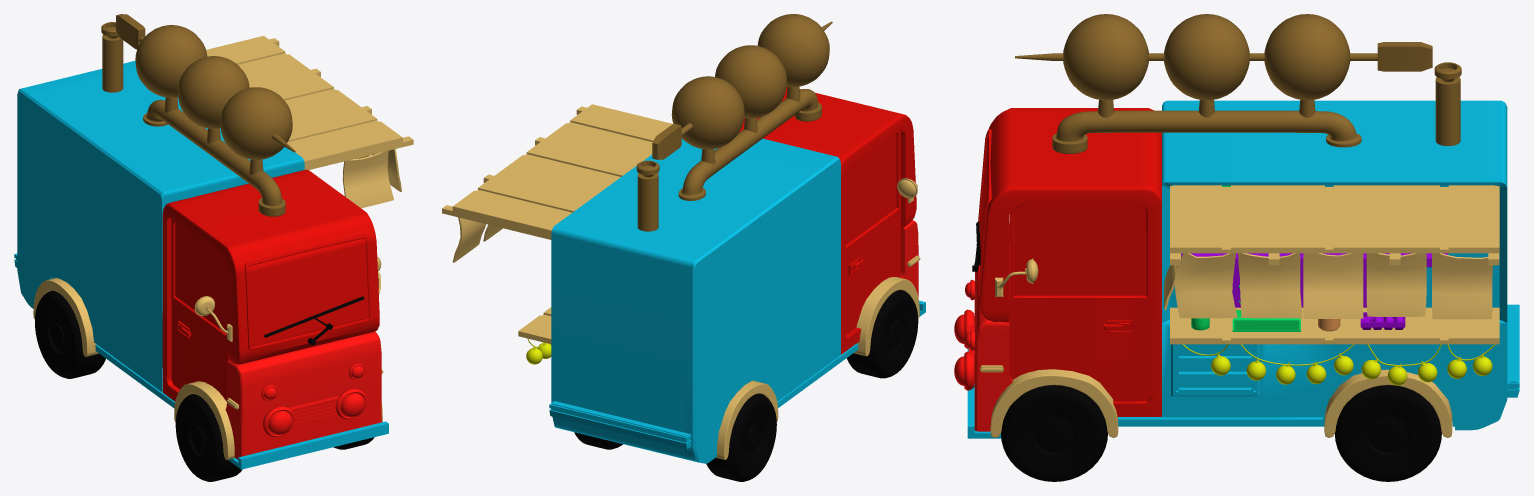
Rendered from prueba.fbx.
3 renders of one model, left to right at view 1: azimuth 30°, elevation 25°; view 2: azimuth 150°, elevation 25°; view 3: azimuth 270°, elevation 25°, orthographic. The views are drawn at different scales.
Visible parts, largest first — view 1: defaultMaterial.001, defaultMaterial.033, defaultMaterial.035, defaultMaterial.032, defaultMaterial.027, defaultMaterial.023, defaultMaterial.039, defaultMaterial.040, defaultMaterial.021, defaultMaterial.020, defaultMaterial.024, defaultMaterial.041 (+12 smaller); view 2: defaultMaterial.001, defaultMaterial.027, defaultMaterial.033, defaultMaterial.039, defaultMaterial.020, defaultMaterial.041, defaultMaterial.023, defaultMaterial.021, defaultMaterial.040, defaultMaterial.024, defaultMaterial.018, defaultMaterial (+7 smaller); view 3: defaultMaterial.001, defaultMaterial.027, defaultMaterial.033, defaultMaterial.005, defaultMaterial.038, defaultMaterial.040, defaultMaterial.024, defaultMaterial.041, defaultMaterial.018, defaultMaterial.028, defaultMaterial.020, defaultMaterial.023 (+13 smaller).
Boxes of the visible parts, box(x1,y1,x2,y2) form: defaultMaterial.001: box(17, 61, 304, 408); defaultMaterial.033: box(162, 169, 379, 401); defaultMaterial.035: box(225, 331, 381, 459); defaultMaterial.032: box(248, 238, 368, 346); defaultMaterial.027: box(206, 36, 402, 165); defaultMaterial.023: box(220, 87, 292, 174); defaultMaterial.039: box(171, 219, 226, 338); defaultMaterial.040: box(171, 299, 228, 400); defaultMaterial.021: box(177, 56, 249, 143); defaultMaterial.020: box(135, 25, 207, 112); defaultMaterial.024: box(175, 394, 374, 481); defaultMaterial.041: box(35, 290, 105, 378); defaultMaterial.001: box(551, 138, 858, 463); defaultMaterial.027: box(452, 104, 672, 234); defaultMaterial.033: box(739, 87, 916, 354); defaultMaterial.039: box(845, 130, 900, 249); defaultMaterial.020: box(671, 76, 744, 164); defaultMaterial.041: box(574, 393, 776, 481); defaultMaterial.023: box(757, 14, 829, 101); defaultMaterial.021: box(715, 45, 786, 132); defaultMaterial.040: box(845, 210, 900, 335); defaultMaterial.024: box(847, 290, 918, 378); defaultMaterial.018: box(678, 89, 821, 200); defaultMaterial: box(716, 277, 919, 459); defaultMaterial.001: box(1118, 100, 1507, 430); defaultMaterial.027: box(1170, 185, 1499, 253); defaultMaterial.033: box(977, 108, 1161, 416); defaultMaterial.005: box(1174, 253, 1492, 319); defaultMaterial.038: box(1009, 202, 1150, 300); defaultMaterial.040: box(1009, 223, 1150, 401); defaultMaterial.024: box(1001, 385, 1107, 481); defaultMaterial.041: box(1334, 385, 1441, 481); defaultMaterial.018: box(1052, 110, 1361, 153); defaultMaterial.028: box(1170, 307, 1499, 344); defaultMaterial.020: box(1264, 14, 1350, 117); defaultMaterial.023: box(1063, 14, 1148, 117).
Size of the model in its own units: 12.8 by 15.65 by 19.11.
